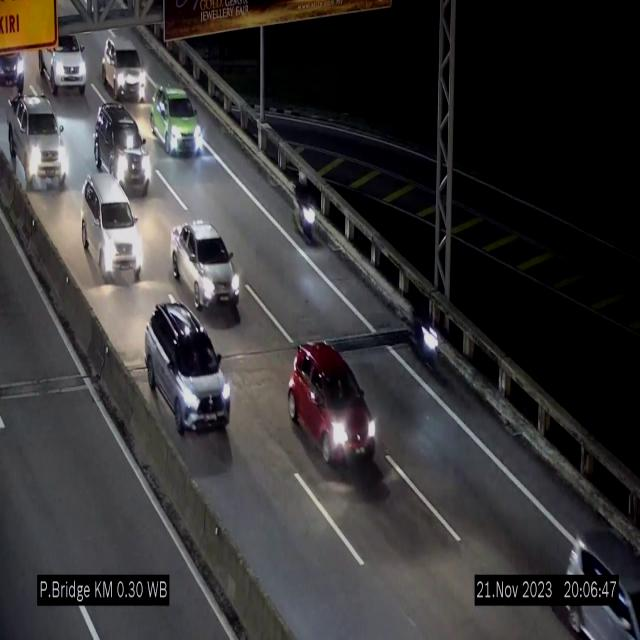Car: (287, 343, 381, 476), (145, 303, 231, 434), (560, 514, 640, 640), (74, 169, 150, 288), (0, 94, 70, 198), (171, 220, 240, 312), (98, 100, 158, 202), (34, 13, 90, 94), (151, 85, 205, 155), (102, 30, 146, 100), (0, 41, 32, 97)
Motorcycle: (411, 300, 443, 380), (290, 168, 318, 257)
